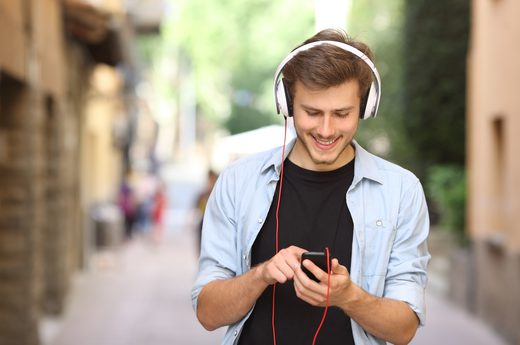happy: (291, 82, 362, 167)
